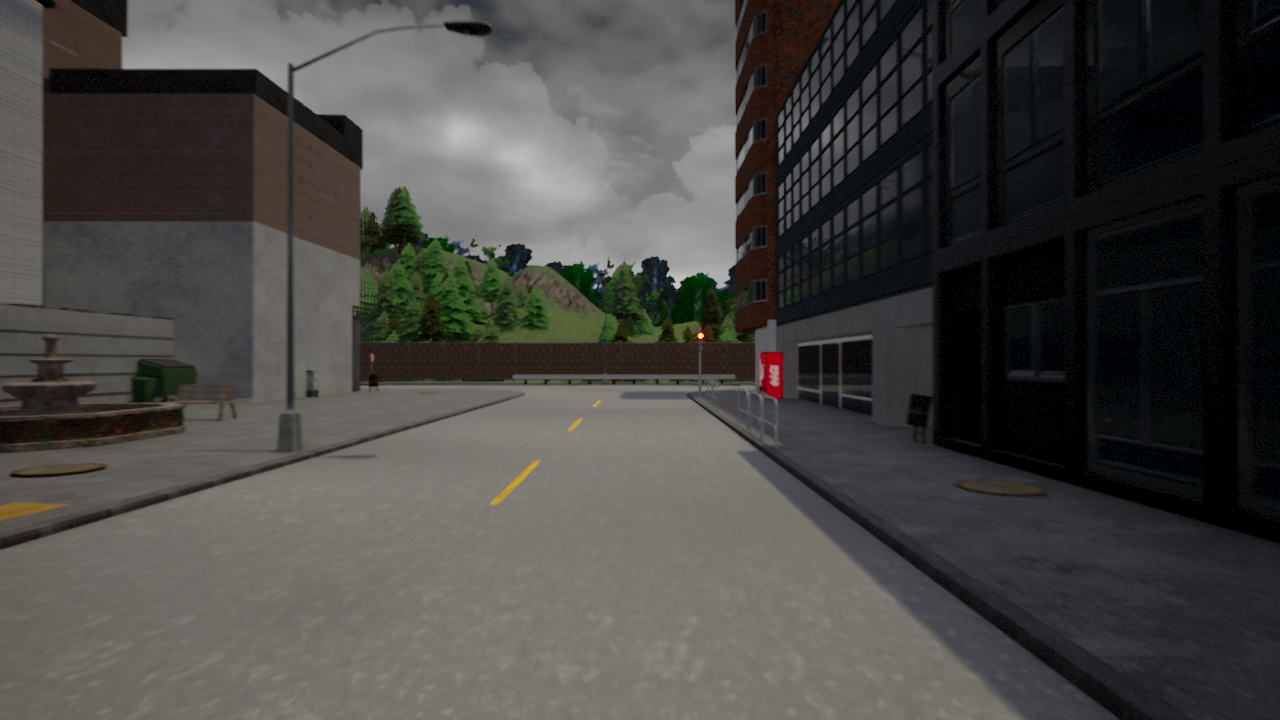red: (695, 330, 704, 353)
